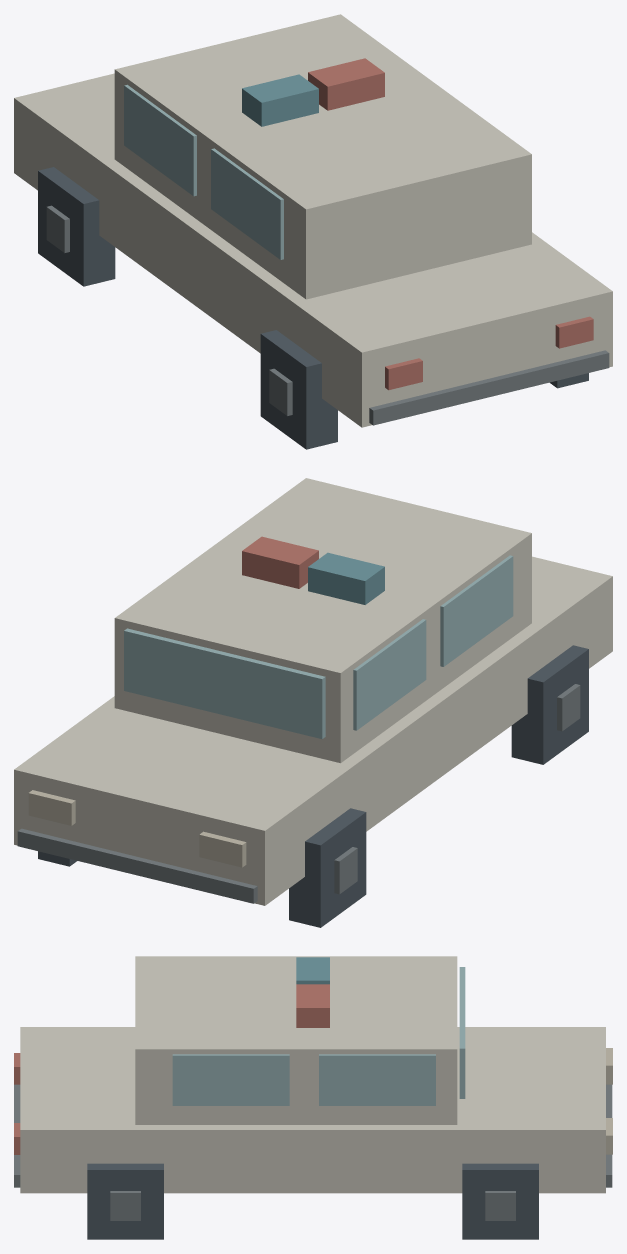
The model's file is police_car.glb.
The picture shows the model from 3 angles, top to bottom: view 1: azimuth 30°, elevation 25°; view 2: azimuth 150°, elevation 25°; view 3: azimuth 270°, elevation 25°; orthographic projection. The views are drawn at different scales.
Visible parts, largest first — view 1: body, wheel_-0.875_1.344, wheel_-0.875_-1.344; view 2: body, wheel_-0.875_-1.344, wheel_-0.875_1.344; view 3: body, wheel_0.875_-1.344, wheel_0.875_1.344.
Part boxes in pixels (x1,y1,x2,y2): body: (14, 14, 612, 427); wheel_-0.875_1.344: (260, 330, 337, 449); wheel_-0.875_-1.344: (38, 167, 115, 286); body: (14, 478, 612, 905); wheel_-0.875_-1.344: (289, 808, 366, 927); wheel_-0.875_1.344: (511, 645, 588, 764); body: (14, 956, 612, 1193); wheel_0.875_-1.344: (462, 1163, 538, 1239); wheel_0.875_1.344: (87, 1163, 163, 1239).
Size of the model in its own units: 2.04 by 1.57 by 4.3.
